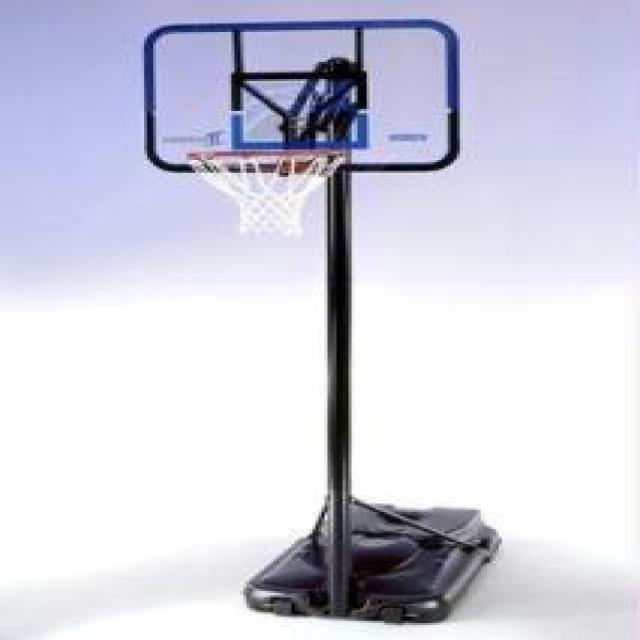hoop: (178, 133, 392, 251)
